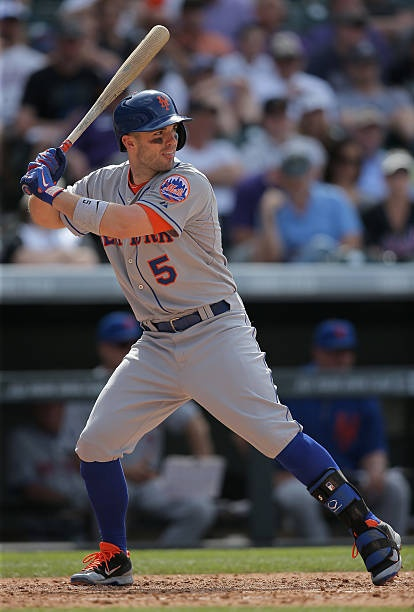bita: (53, 21, 177, 158)
